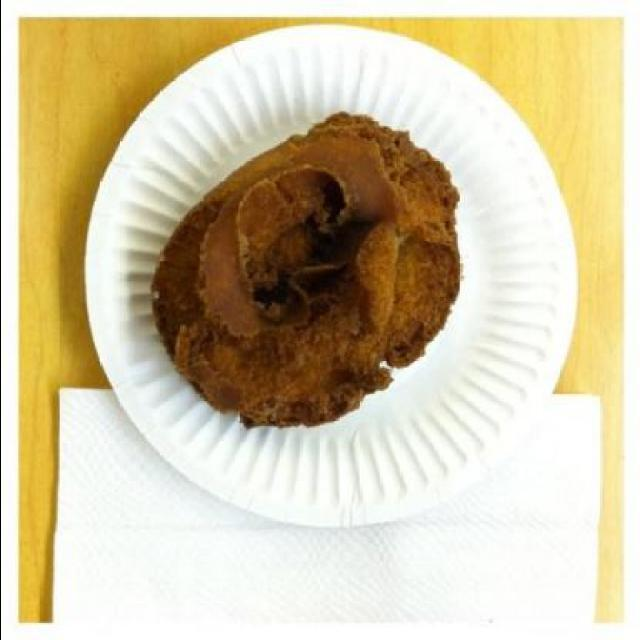Donuts: (125, 94, 468, 470)
